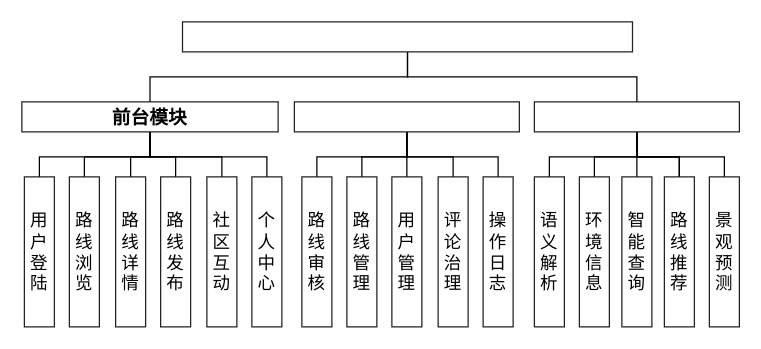
This 761x349 diagram has some shape labels left out. Here are the shapes that lost their labels. From the top down, the box of each, then its label:
(181, 21, 632, 52): 基于 Vue 的户外路线智能推荐平台
(293, 101, 519, 132): 后台模块
(533, 101, 739, 132): 智能模块
